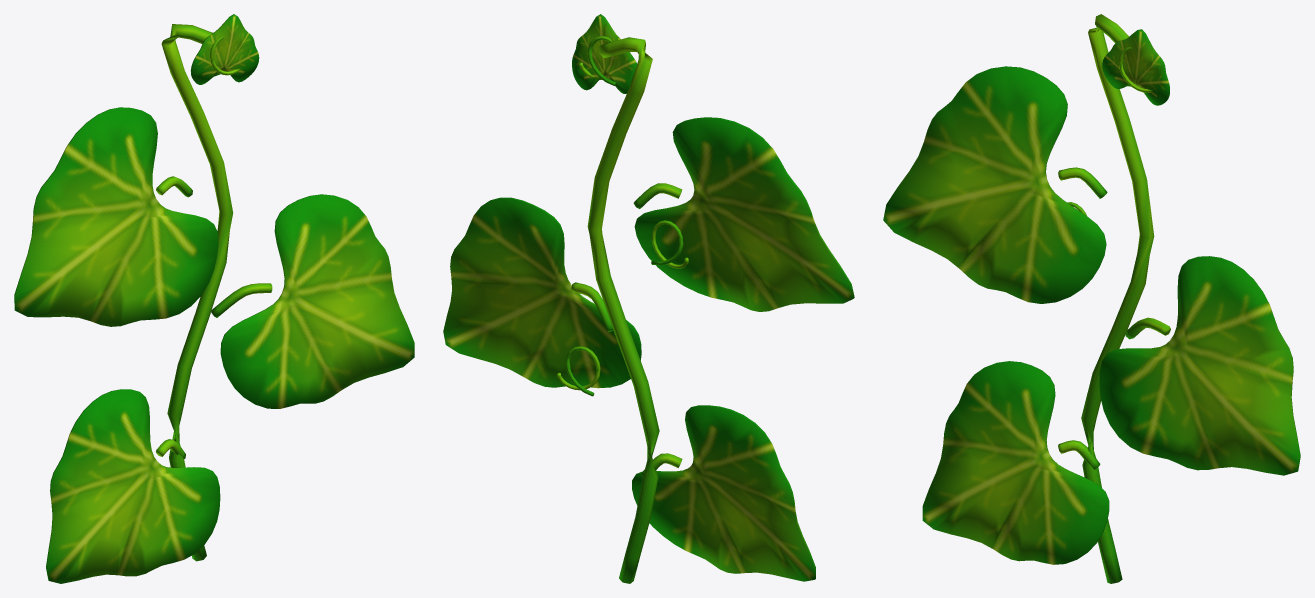
The model's file is NP_Cucumber_Young.fbx.
3 renders of one model, left to right at view 1: azimuth 30°, elevation 25°; view 2: azimuth 150°, elevation 25°; view 3: azimuth 330°, elevation 25°, orthographic. The views are drawn at different scales.
Parts seen in each view (by area): view 1: NP_Cucumber_Young; view 2: NP_Cucumber_Young; view 3: NP_Cucumber_Young.
Boxes of the visible parts, x1,y1,x2,y2 form: NP_Cucumber_Young: (14, 14, 414, 583); NP_Cucumber_Young: (443, 14, 854, 583); NP_Cucumber_Young: (883, 14, 1300, 583).
Bounding box in the file's own units: 55.83 × 72.22 × 8.86.
